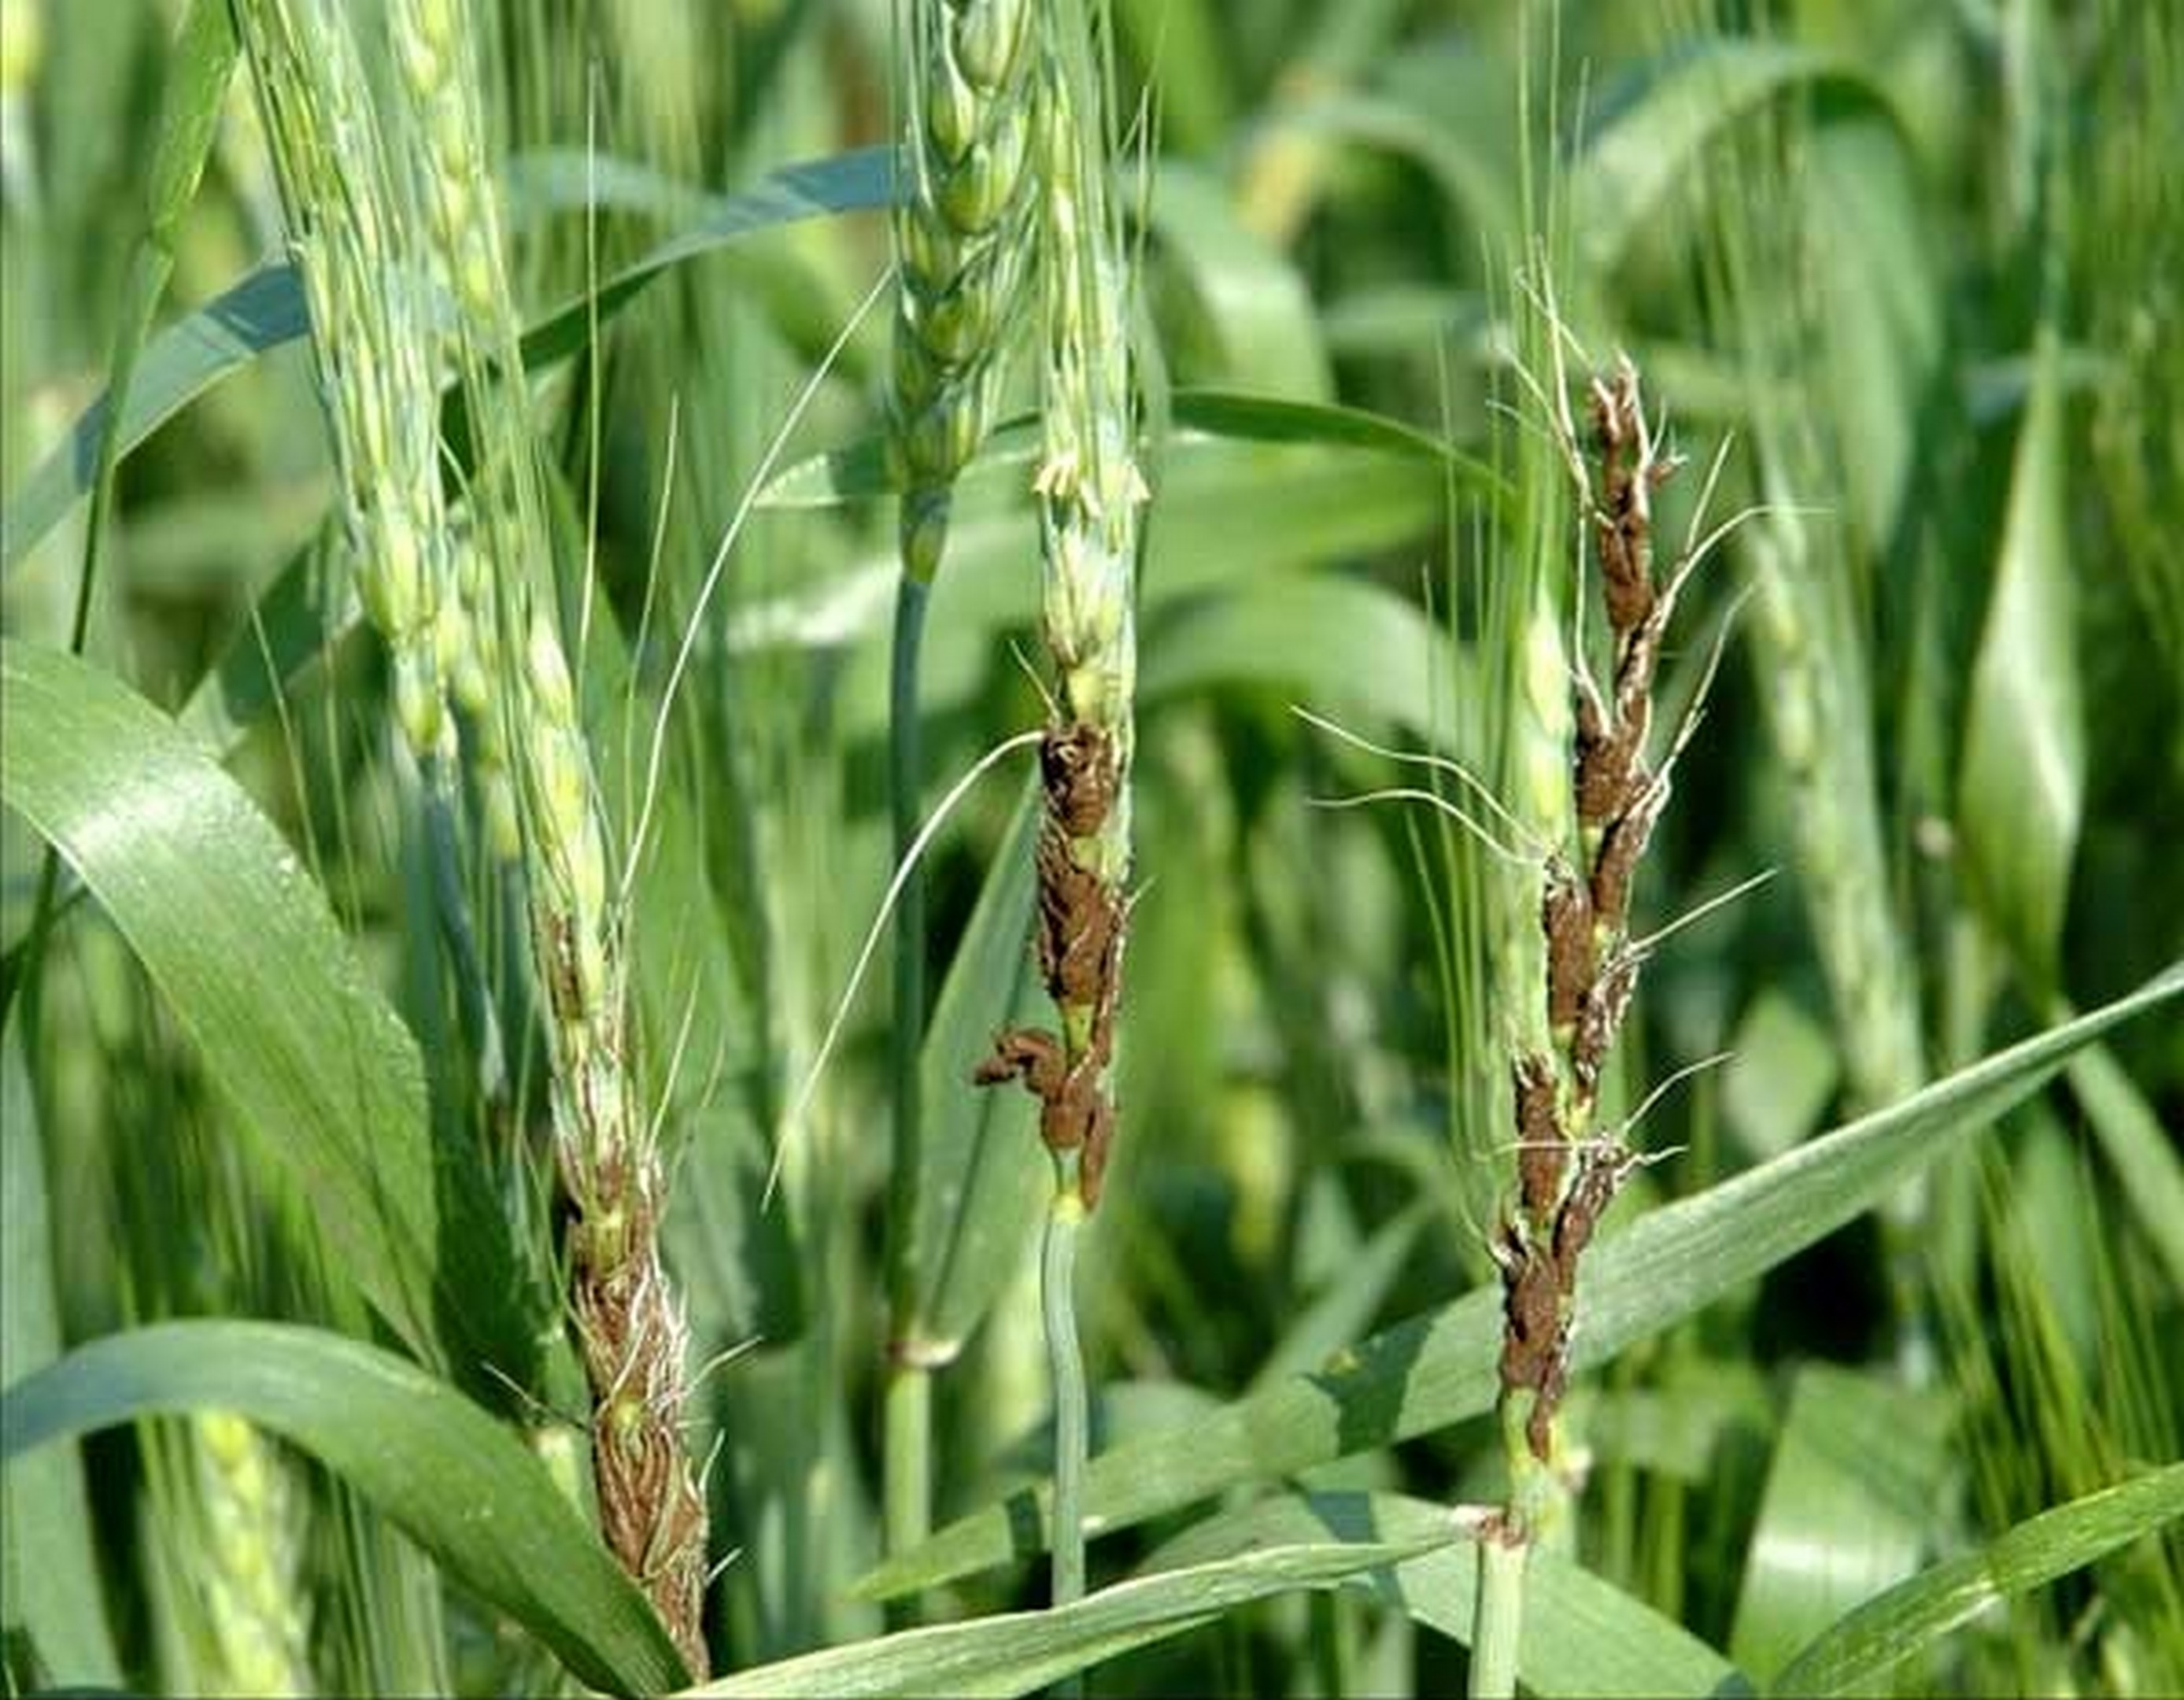Wheat Loose Smut: (1461, 358, 1732, 1392), (496, 913, 764, 1608), (975, 542, 1202, 1213)
